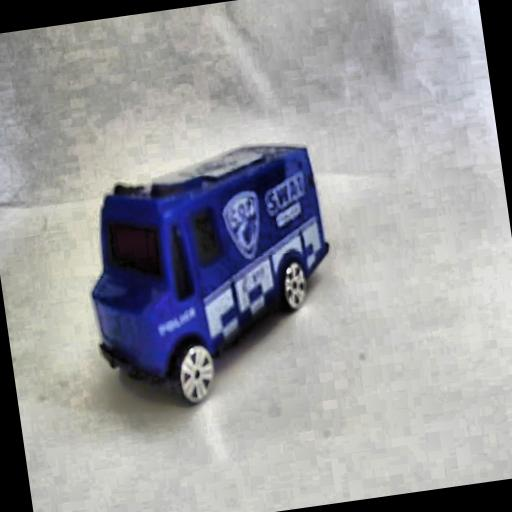police car: (70, 126, 351, 424)
